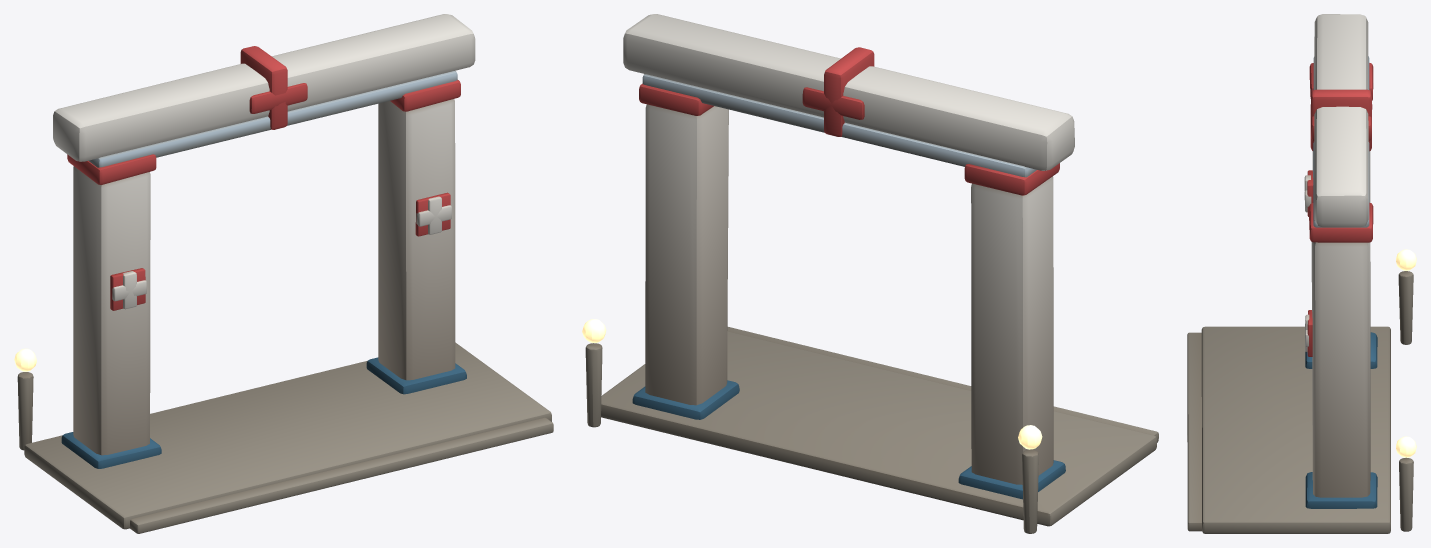
3 views of the same model, side by side, from view 1: azimuth 30°, elevation 25°; view 2: azimuth 150°, elevation 25°; view 3: azimuth 270°, elevation 25° (orthographic). The views are drawn at different scales.
Parts seen in each view (by area): view 1: gate_a11fcb0f; view 2: gate_a11fcb0f; view 3: gate_a11fcb0f.
Part boxes in pixels (x1,y1,x2,y2): gate_a11fcb0f: (14,14,553,533); gate_a11fcb0f: (582,14,1158,533); gate_a11fcb0f: (1187,14,1416,533).
Size of the model in its own units: 5.18 by 4.23 by 2.55.
